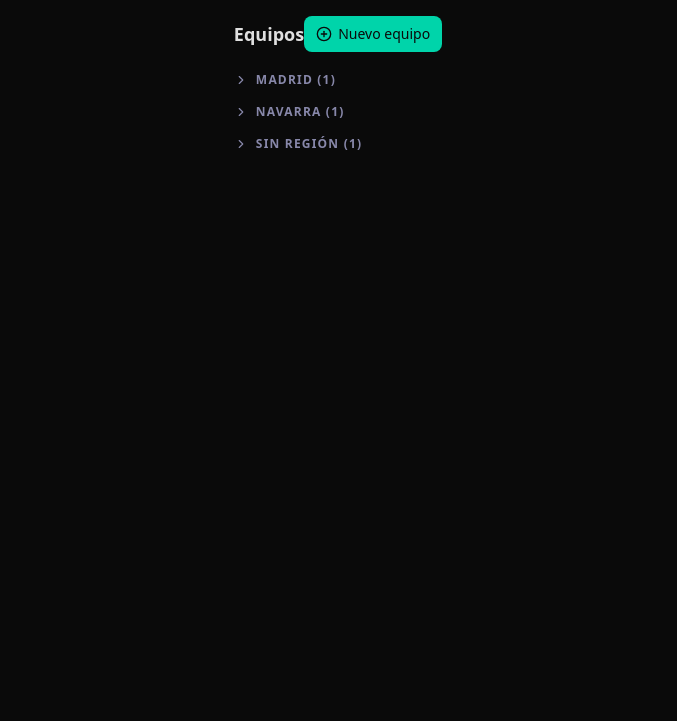
Test: AdminEquiposPage › save button enabled in edit mode when team has no region
Click the button "Madrid (1)": (338, 80) x1=234 y1=68 x2=442 y2=92
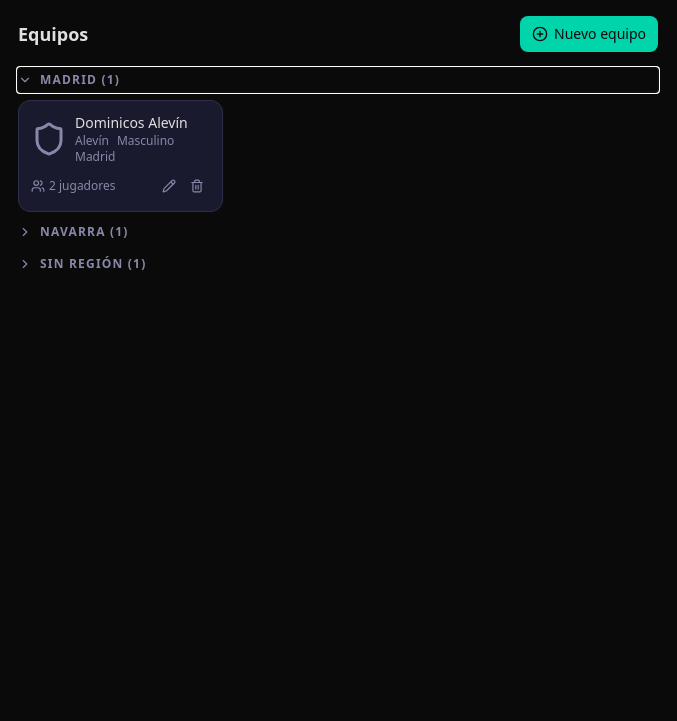
Click the button "Navarra (1)": (73, 232) x1=18 y1=220 x2=658 y2=244
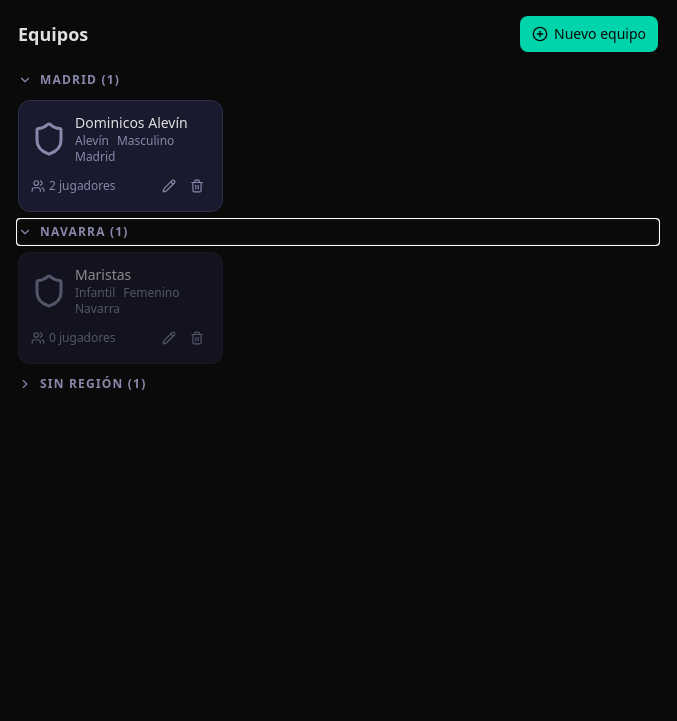
Click the button "Sin región (1)": (82, 384) x1=18 y1=372 x2=658 y2=396
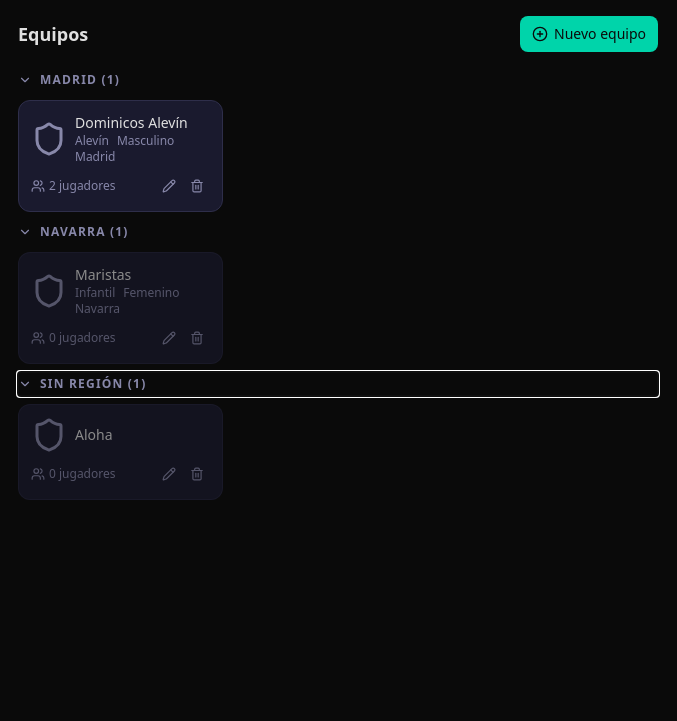
Click the button titled "Editar equipo" below "Aloha": (169, 474) x1=156 y1=461 x2=182 y2=487
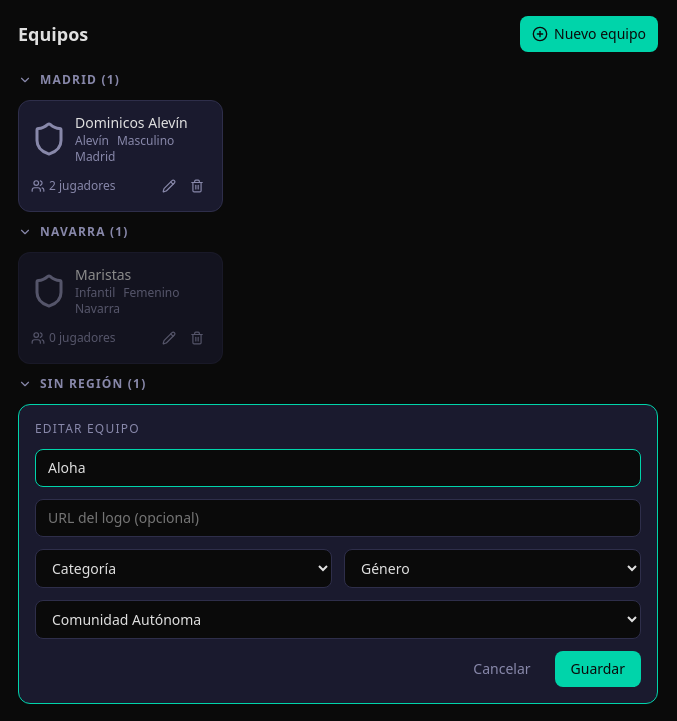
Expected: the button "Guardar" is enabled, x1=554 y1=651 x2=641 y2=687
